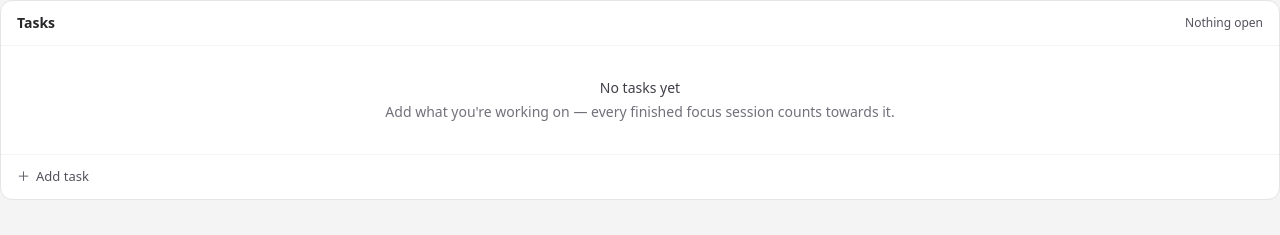
Scenario: TaskList › explains an empty list and keeps quick add one click away
This screenshot has width=1280, height=235.
Expected: the text "No tasks yet" is shown, left=600, top=78, right=680, bottom=97
Click the button "＋ Add task". click: click(62, 176)
box: left=9, top=161, right=1271, bottom=192
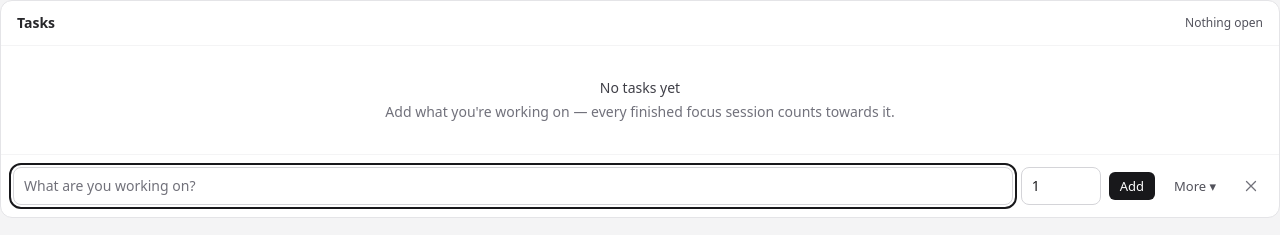
Now the field named "Task title" is shown, box left=13, top=167, right=1013, bottom=205
